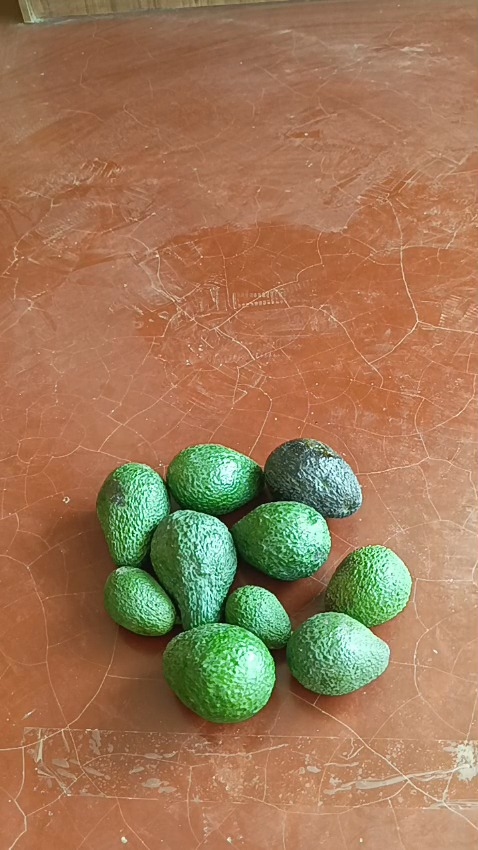Primera: (161, 620, 275, 720), (149, 510, 238, 630), (230, 500, 331, 580), (94, 462, 170, 566), (263, 439, 362, 517), (166, 443, 263, 516)
Segunda: (285, 611, 391, 696), (323, 544, 414, 627)
Tercera: (101, 563, 177, 637), (223, 583, 293, 650)
